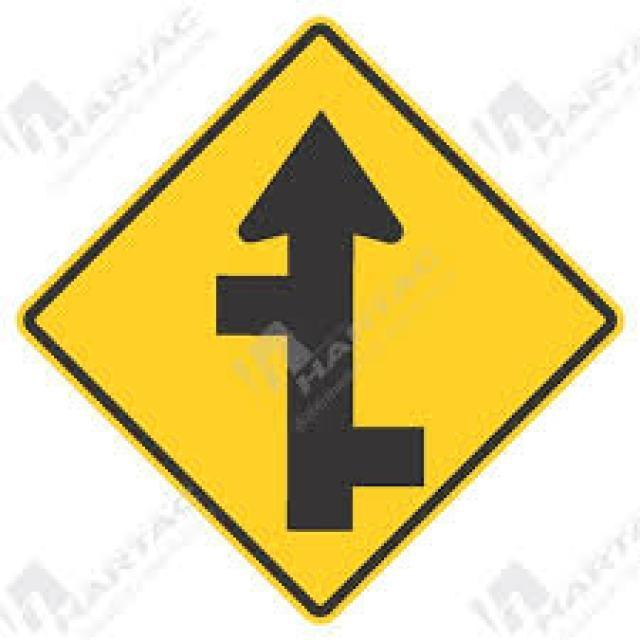staggered intersection: (27, 35, 612, 611)
